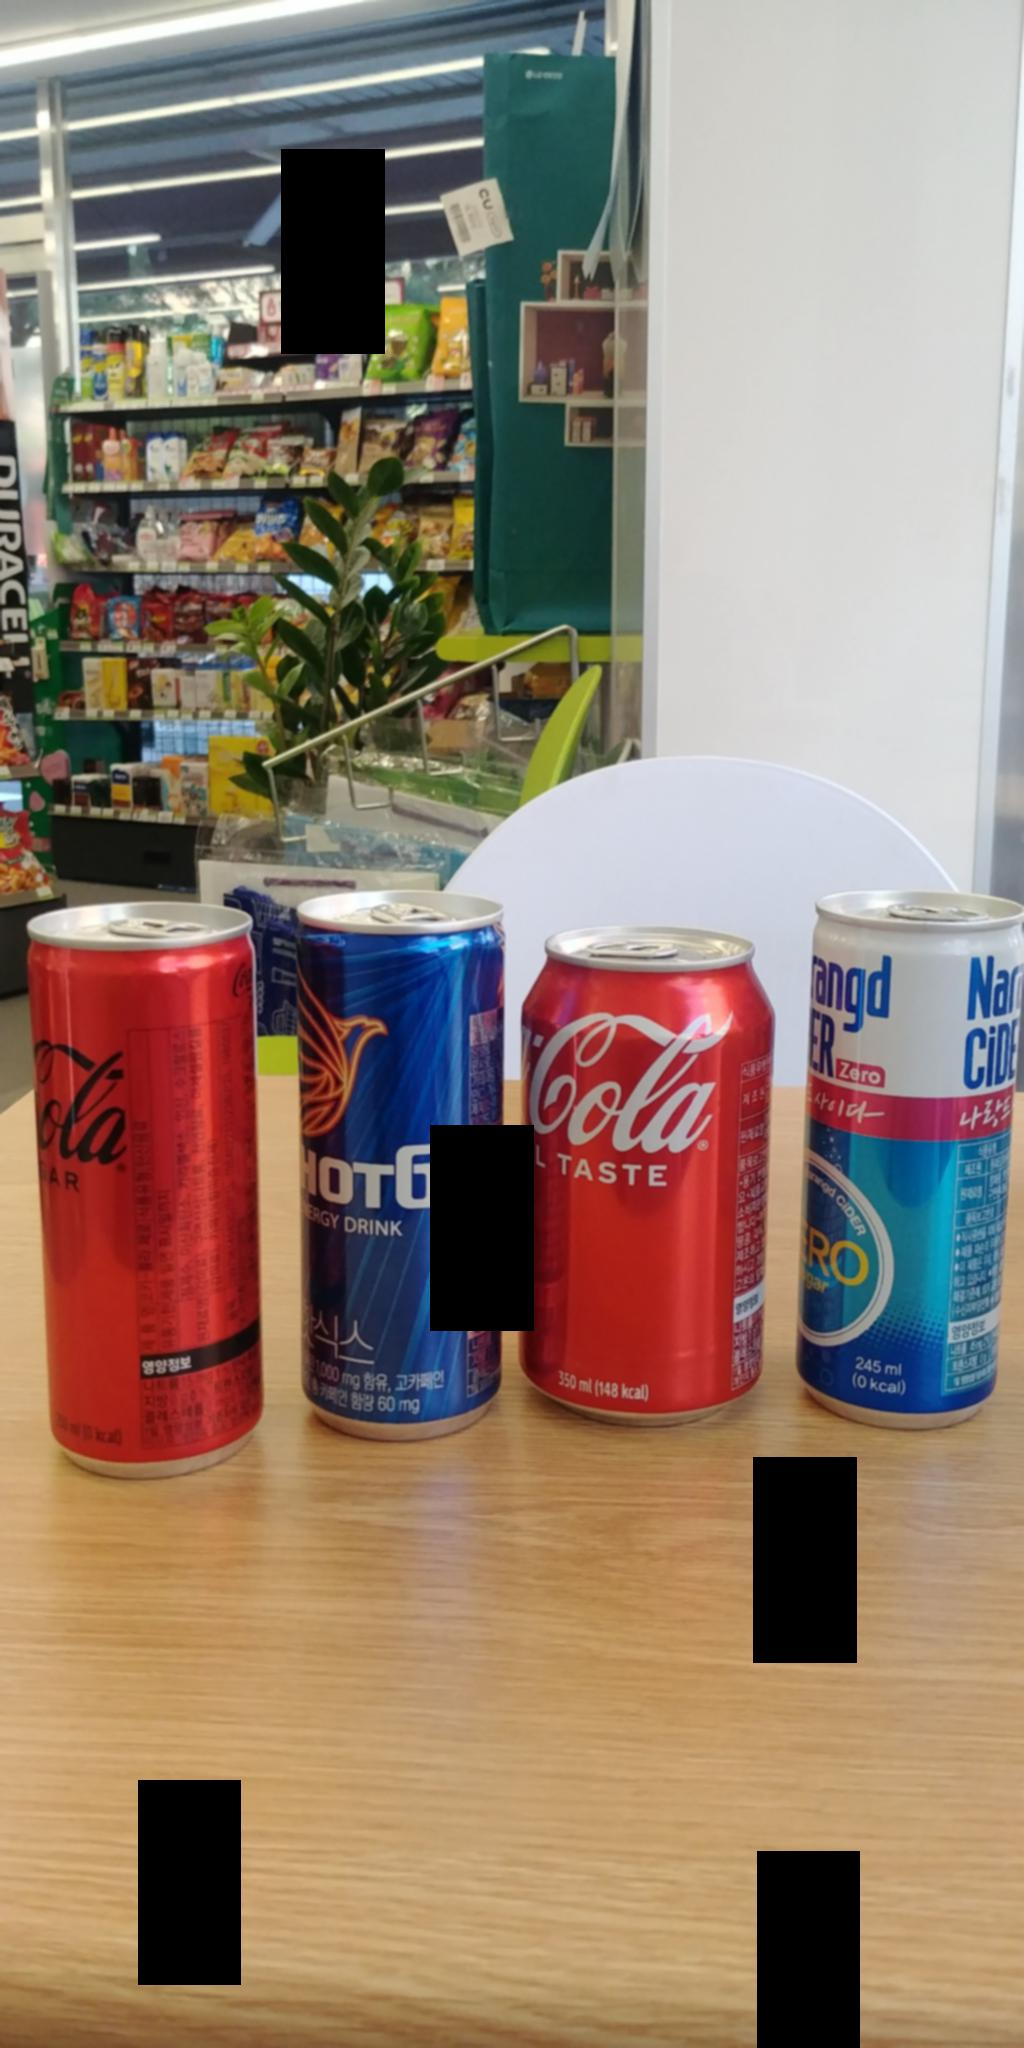cocacola: (504, 906, 812, 1430)
hotsix_org: (283, 875, 517, 1434)
narangdcider: (824, 871, 1024, 1443)
